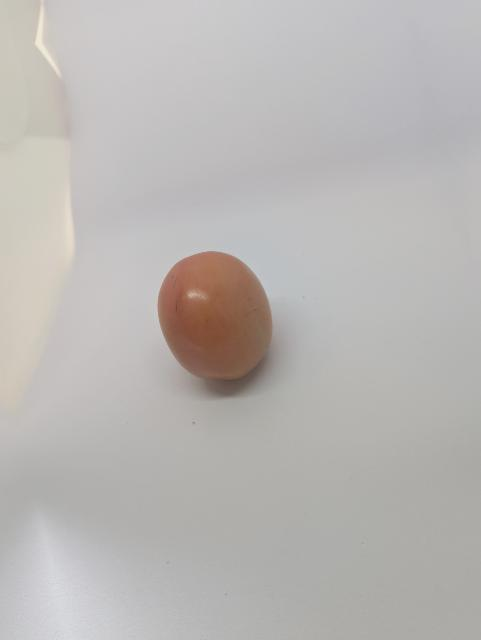turning: (140, 242, 284, 398)
